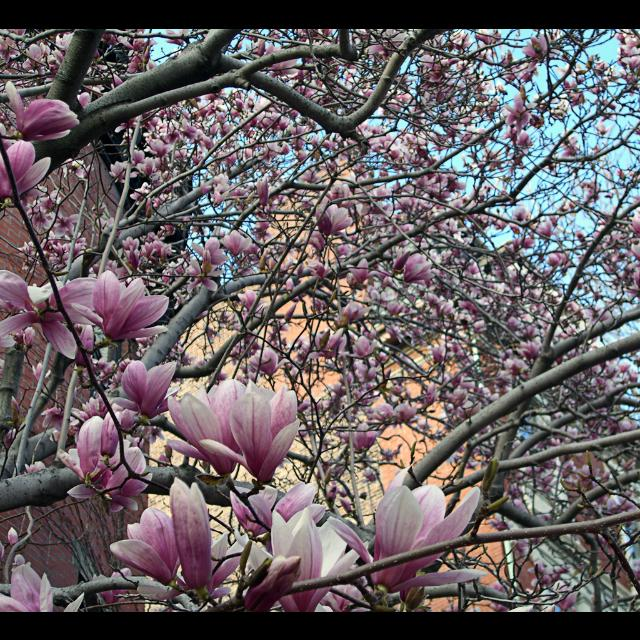Flower: (1, 29, 640, 612), (44, 258, 170, 356)
